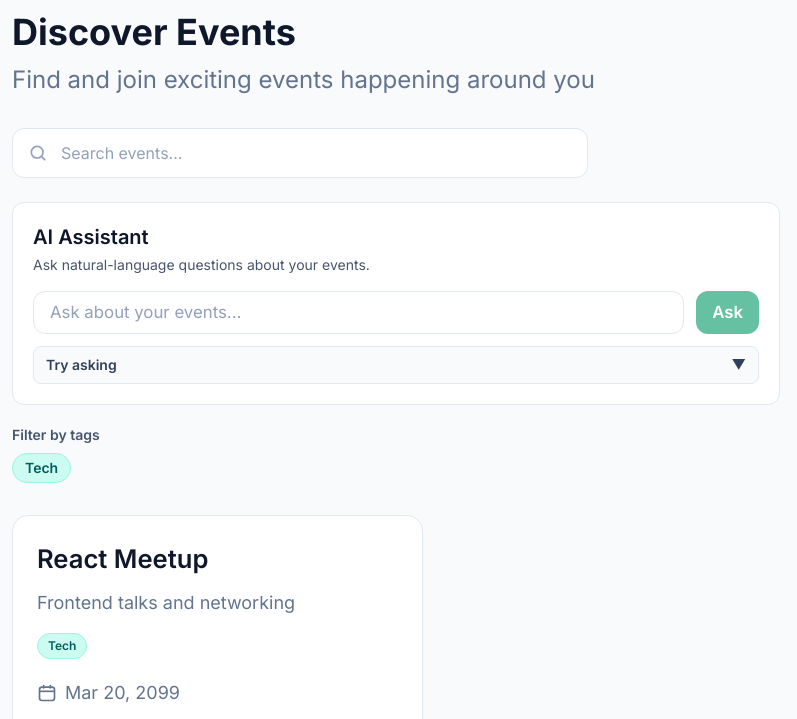
Test: EventsPage › renders backend fallback message under assistant answer
Expected: the heading "React Meetup" is shown, [37,543,208,574]
Type "random unclear request" into the field with placeholder "Ask about your events..." at (359,313), box [33,291,684,334]
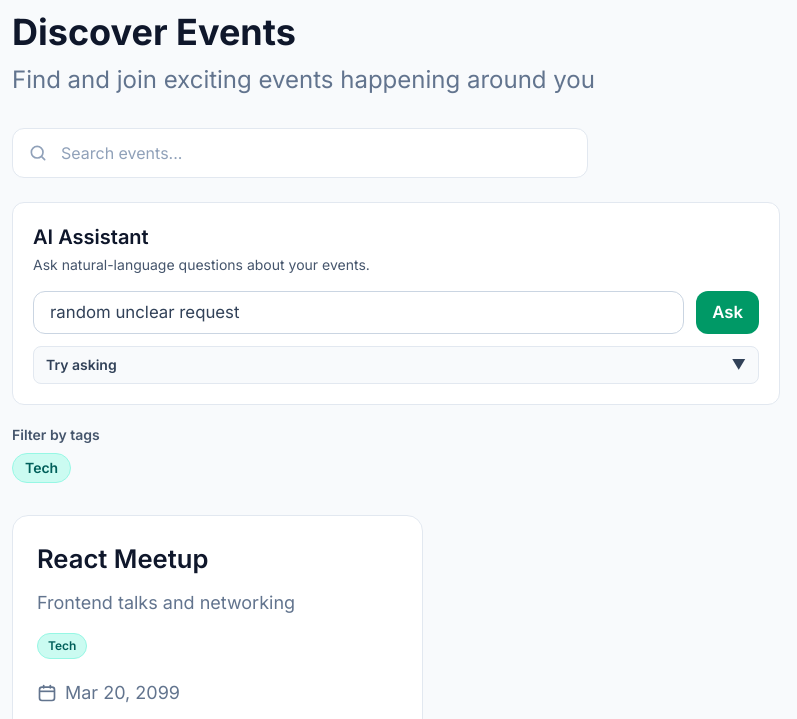
Click the button "Ask" at (728,313), box [696,291,759,334]
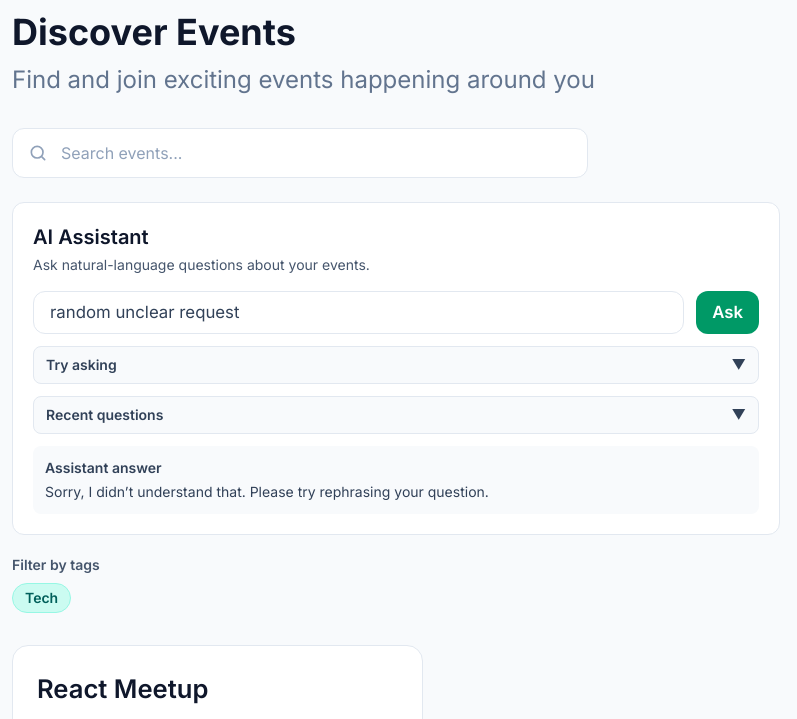
Expected: the text "Assistant answer" is shown, [45,459,162,476]
Expected: the text "Sorry, I didn’t understand that. Please try rephrasing your question." is shown, [45,483,489,500]
